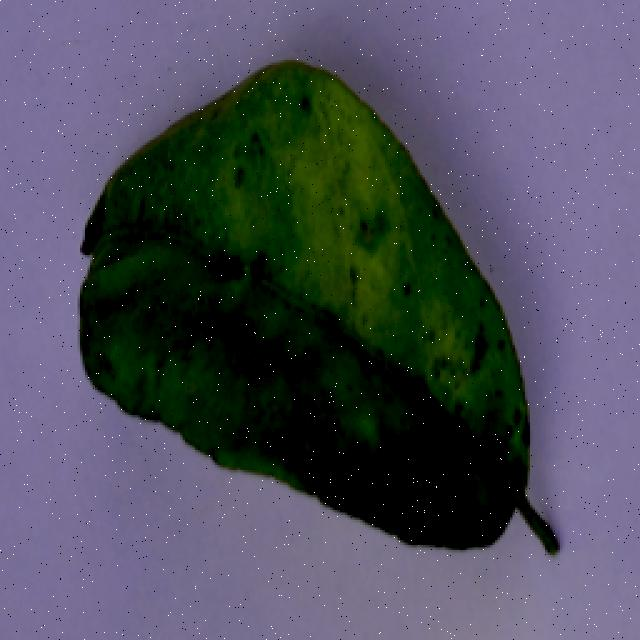blackspot: (66, 53, 578, 575)
